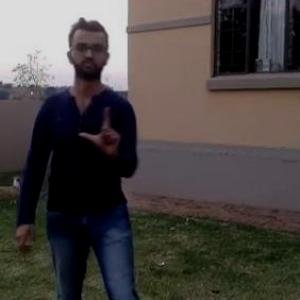land_hand: (74, 101, 126, 158)
